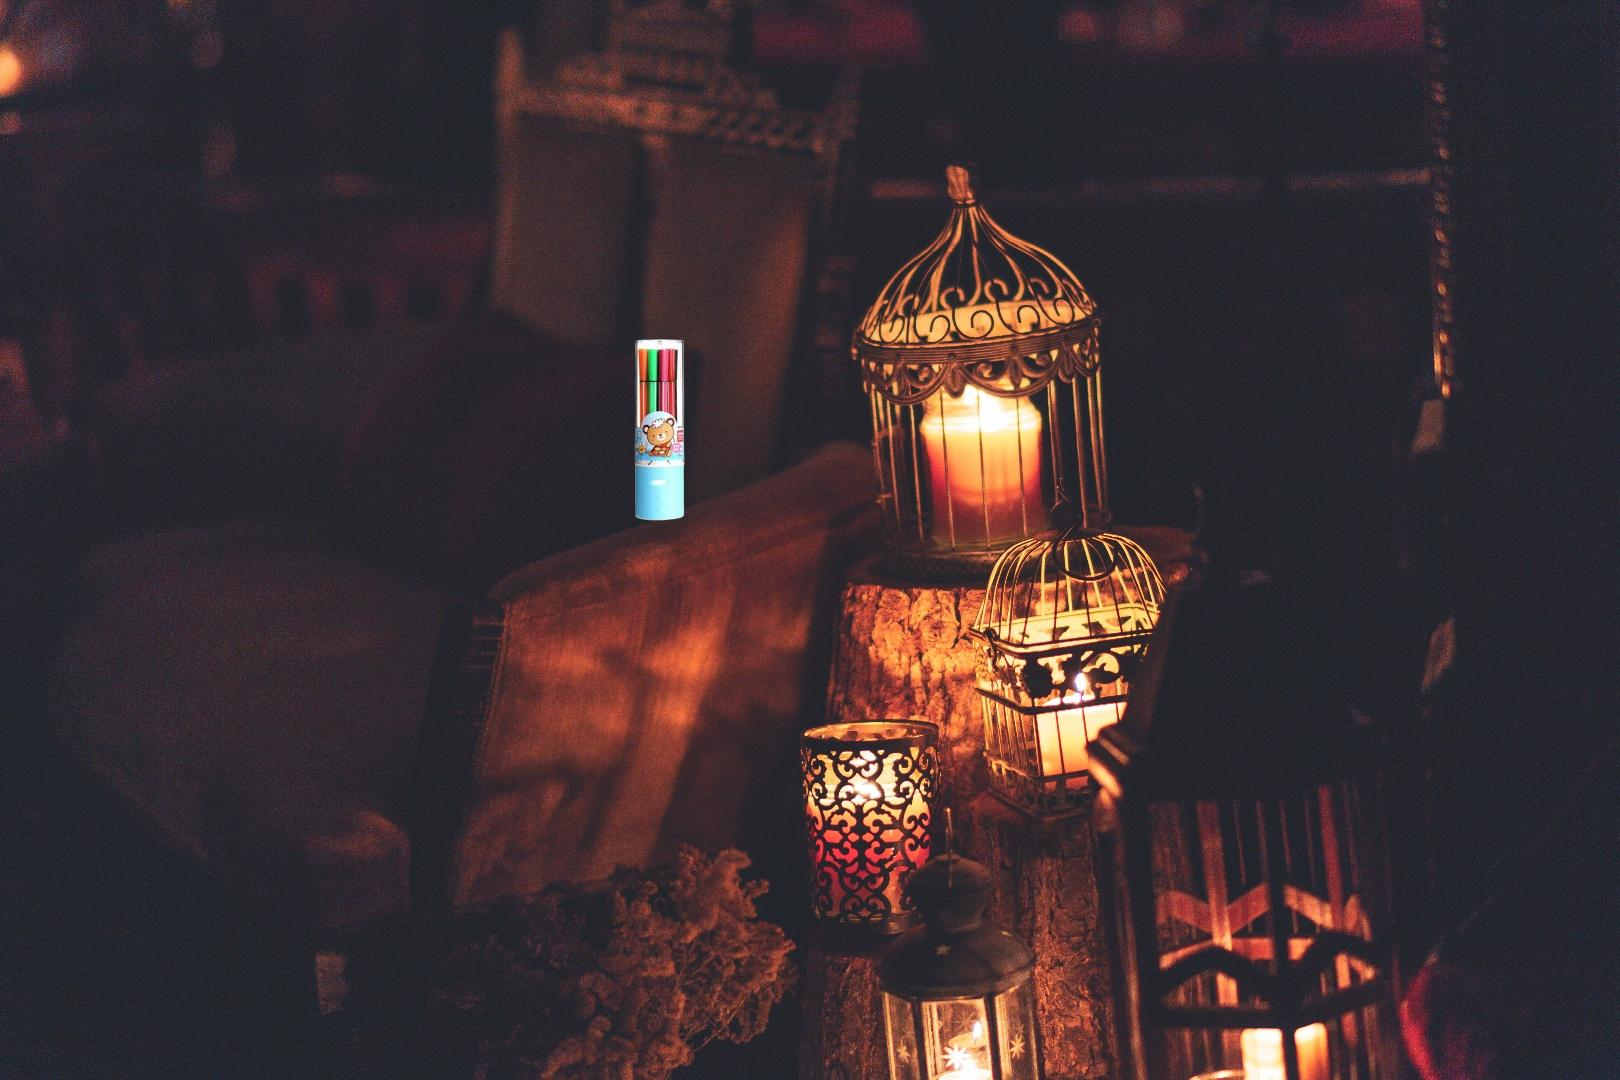penholder: (632, 336, 688, 524)
